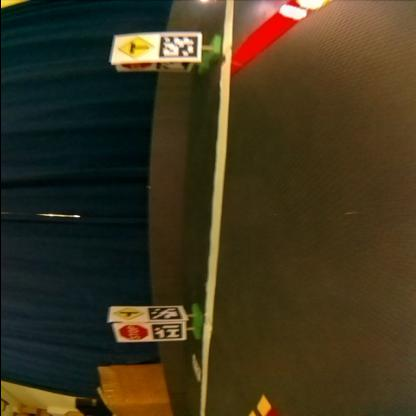Intersection sign: (118, 36, 152, 60), (114, 308, 138, 320)
QR code: (156, 36, 196, 60), (149, 324, 180, 340), (146, 308, 182, 320), (154, 63, 188, 71), (190, 354, 198, 382)
Stop sign: (118, 325, 146, 341)
